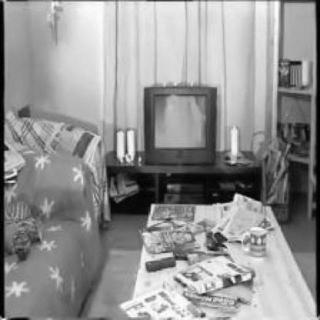other: (118, 10, 240, 72)
